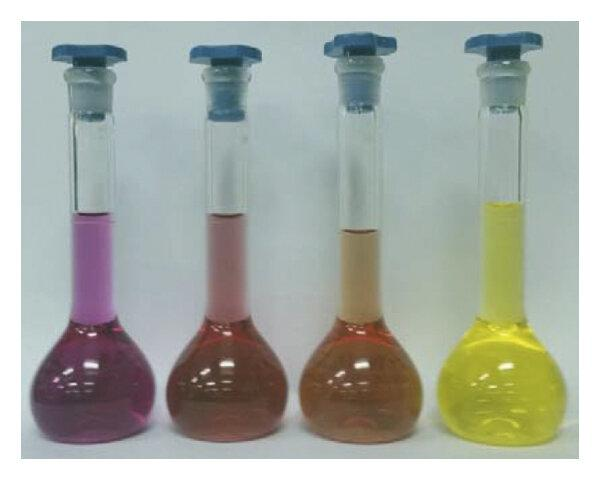Volumetric flask: (441, 32, 581, 455), (301, 33, 430, 449), (31, 32, 157, 447), (167, 37, 292, 444)
